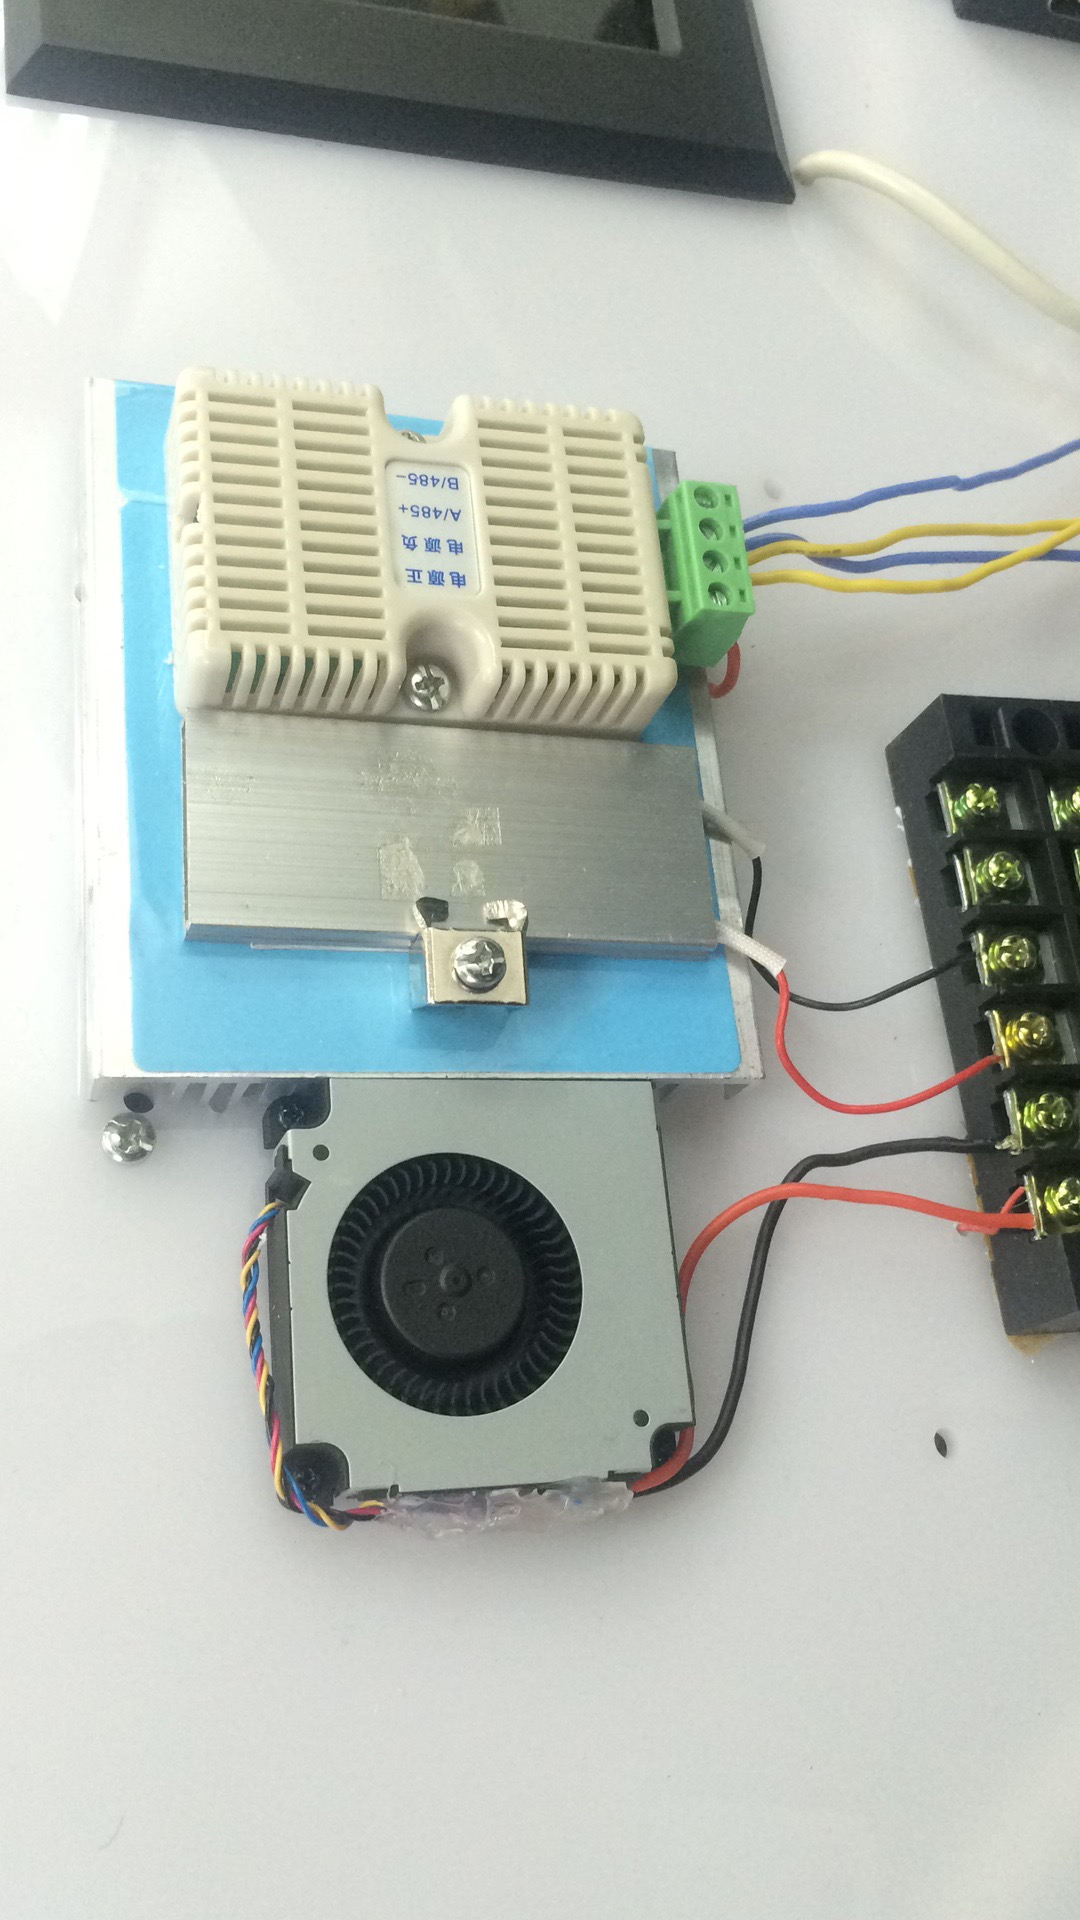fan: (235, 1076, 715, 1536)
heater: (156, 704, 738, 990)
temperature: (167, 368, 679, 723)
